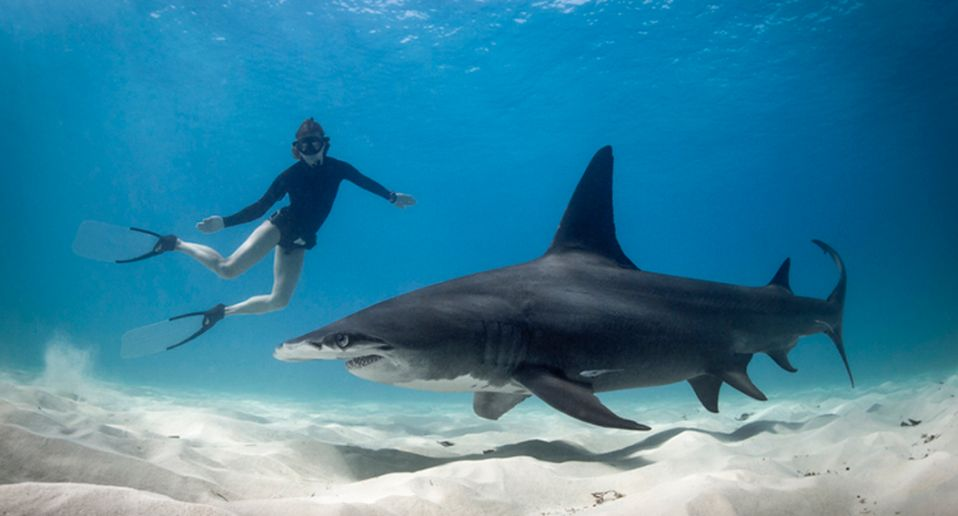shark: (278, 143, 876, 440)
